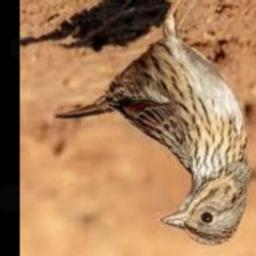Sparrow: (54, 0, 250, 245)
